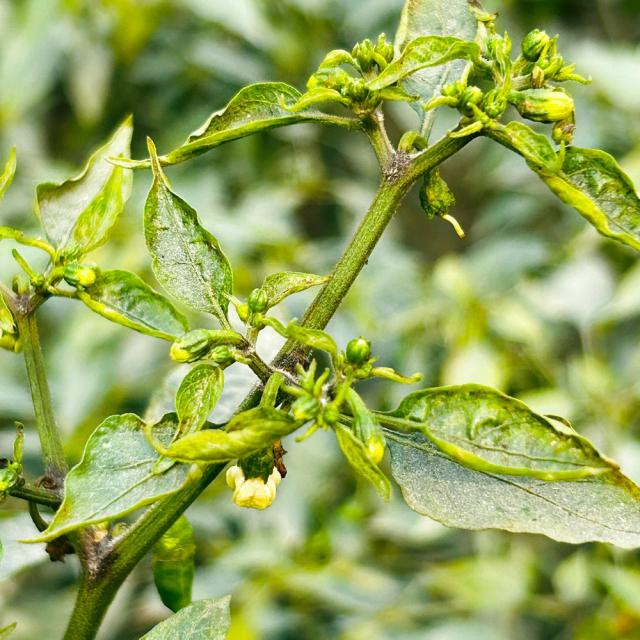Chilli_Leaf_Curl: (1, 2, 638, 636), (371, 381, 638, 550), (17, 410, 195, 547), (140, 136, 234, 327), (33, 112, 136, 268)
